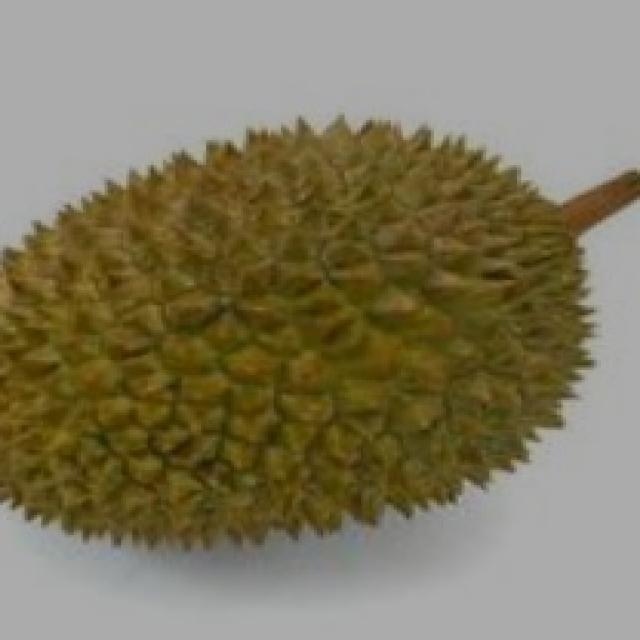fruit: (252, 143, 634, 575), (0, 213, 363, 605)
